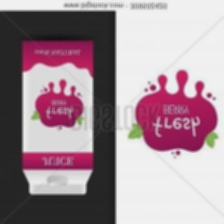carton: (18, 36, 99, 198)
